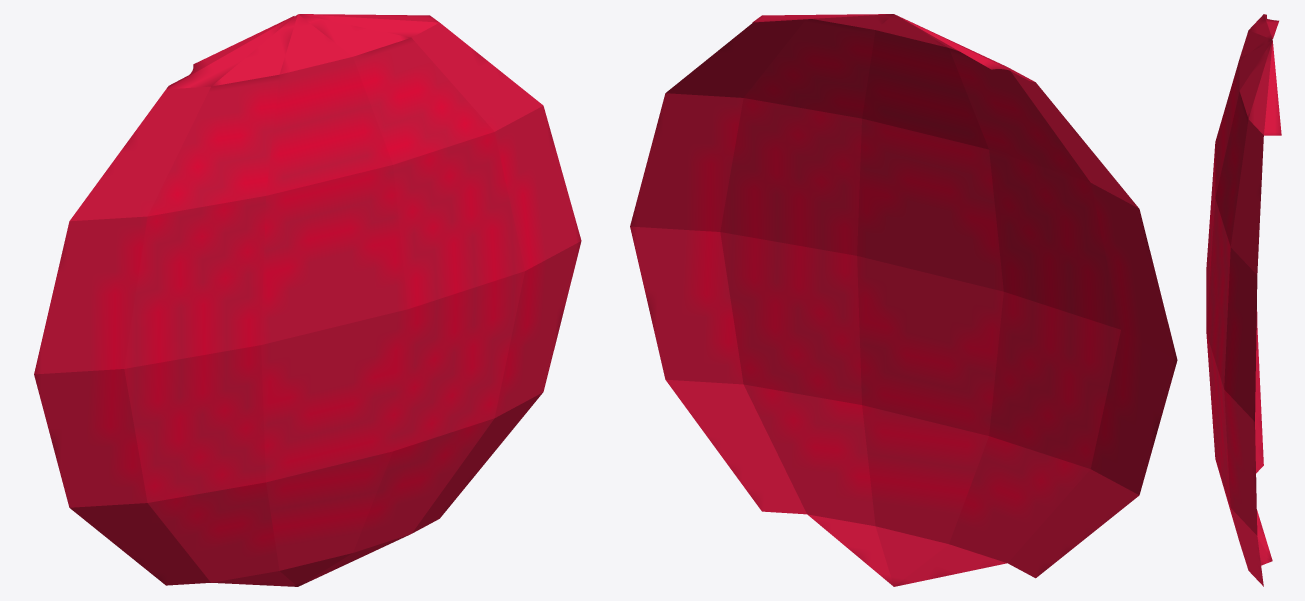
Rendered from nyc_subway_signal_light_2_red.obj.
The picture shows the model from 3 angles, left to right: view 1: azimuth 30°, elevation 25°; view 2: azimuth 150°, elevation 25°; view 3: azimuth 270°, elevation 25°; orthographic projection. The views are drawn at different scales.
Parts seen in each view (by area): view 1: light; view 2: light; view 3: light.
Boxes of the visible parts, box(x1,y1,x2,y2) form: light: box(34, 14, 581, 586); light: box(630, 14, 1177, 586); light: box(1206, 14, 1281, 586).
Bounding box in the file's own units: 0.2031 × 0.2031 × 0.0297.
1 material, 1 textured.
